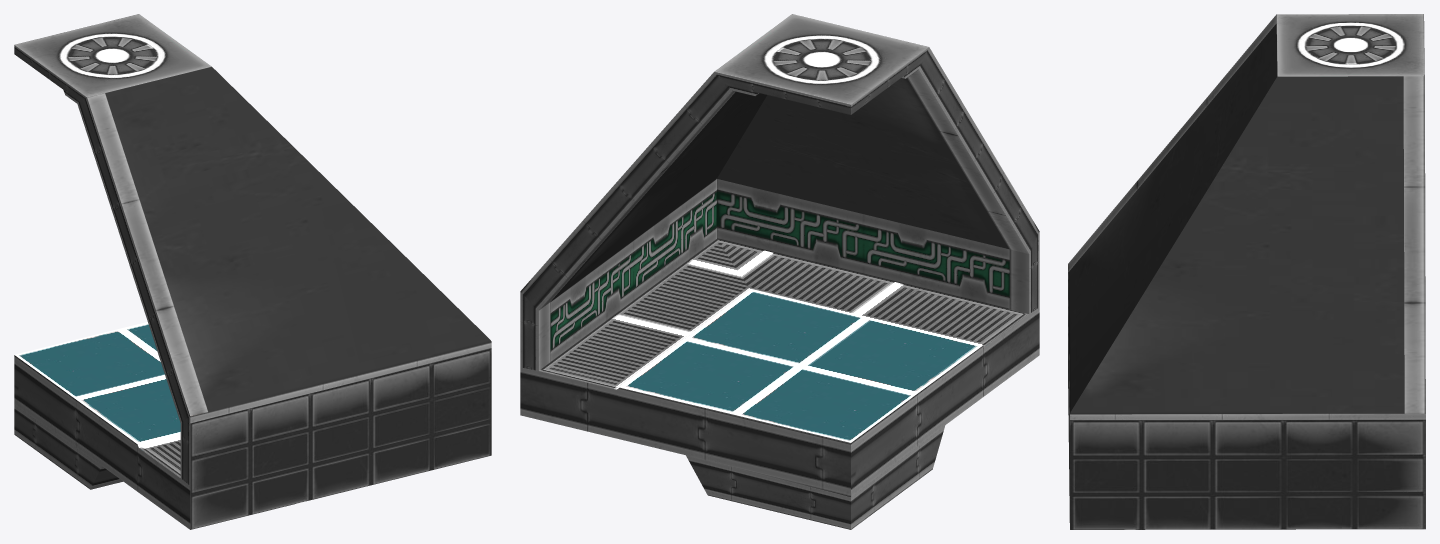
File: ARC1110028.fbx
3 views of the same model, side by side, from view 1: azimuth 30°, elevation 25°; view 2: azimuth 150°, elevation 25°; view 3: azimuth 270°, elevation 25° (orthographic). The views are drawn at different scales.
Parts seen in each view (by area): view 1: smARC1110028; view 2: smARC1110028; view 3: smARC1110028.
Part boxes in pixels (<box>): smARC1110028: <box>14,14,491,529</box>; smARC1110028: <box>520,14,1039,529</box>; smARC1110028: <box>1068,14,1425,529</box>.
Size of the model in its own units: 266 by 326 by 266.
1 material, 1 textured.
